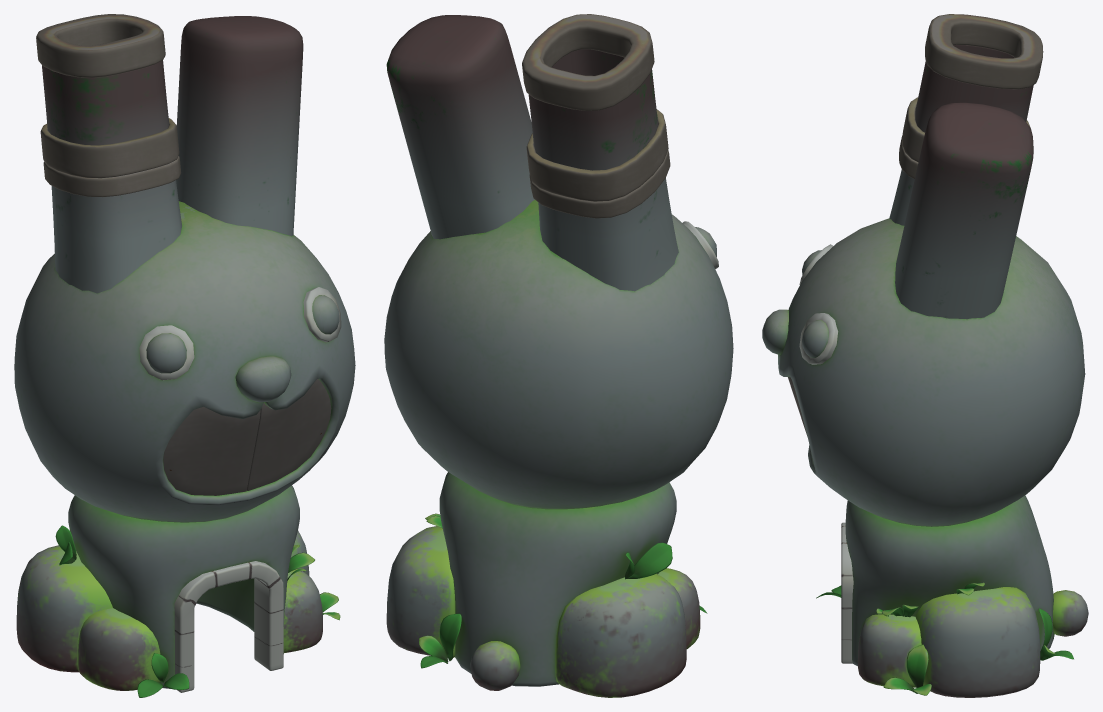
File: BunnyOvenPacked.glb
3 renders of one model, left to right at view 1: azimuth 30°, elevation 25°; view 2: azimuth 150°, elevation 25°; view 3: azimuth 270°, elevation 25°, orthographic. The views are drawn at different scales.
Visible parts, largest first — view 1: Body, Door; view 2: Body; view 3: Body.
Boxes of the visible parts, x1,y1,x2,y2 form: Body: [14, 14, 355, 697]; Door: [163, 379, 331, 495]; Body: [384, 14, 733, 697]; Body: [762, 14, 1088, 697].
Bounding box in the file's own units: 3.51 × 6.92 × 3.5.
1 material, 1 textured.
